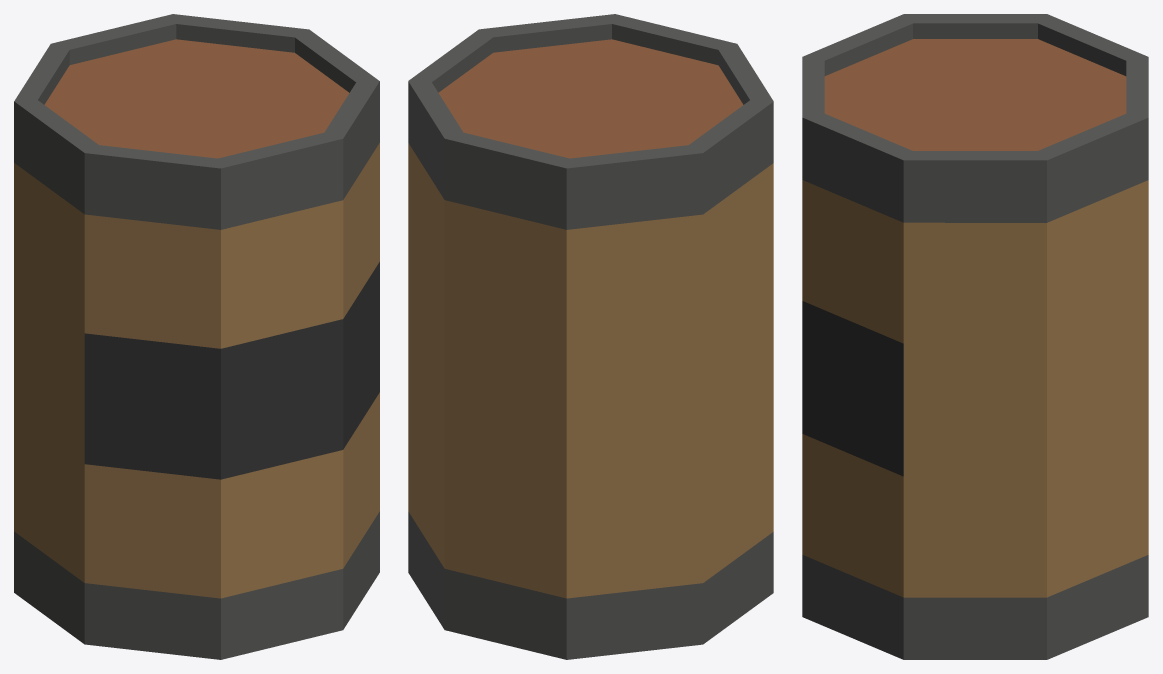
Rendered from Can_1.fbx.
3 renders of one model, left to right at view 1: azimuth 30°, elevation 25°; view 2: azimuth 150°, elevation 25°; view 3: azimuth 270°, elevation 25°, orthographic.
Visible parts, largest first — view 1: Can_1; view 2: Can_1; view 3: Can_1.
Boxes of the visible parts, left/top/right/bottom form: Can_1: left=14, top=14, right=379, bottom=659; Can_1: left=408, top=14, right=773, bottom=659; Can_1: left=802, top=14, right=1148, bottom=659.
Bounding box in the file's own units: 21.42 × 34.08 × 21.42.
